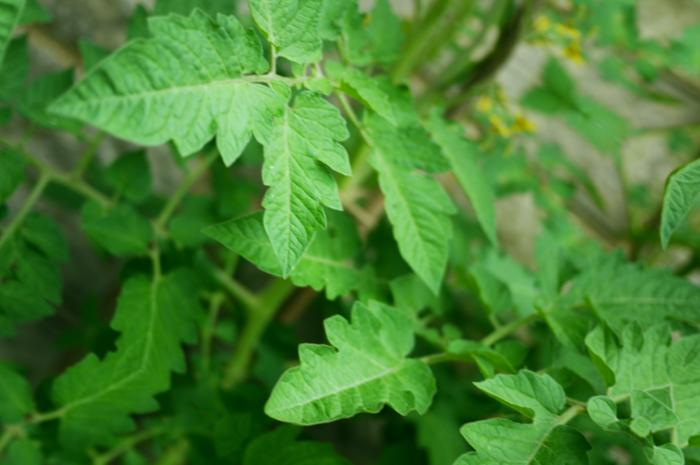Tomato leaf: (175, 60, 407, 301), (47, 0, 305, 216), (244, 257, 472, 465), (298, 94, 517, 303), (354, 312, 637, 465), (552, 213, 700, 382), (379, 109, 542, 259), (157, 0, 369, 85)
